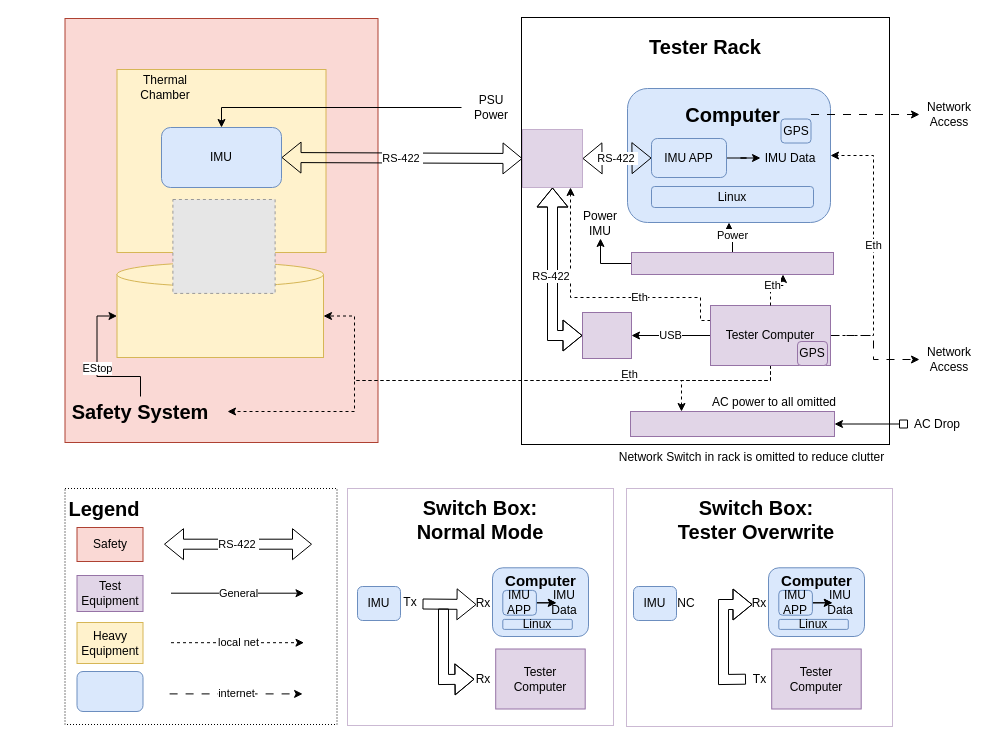
The diagram is 996 pixels wide and 744 high, and some of its shapes have lost their labels. Grey dashed boxes stand in for pictures. Each missing label, with the box of its shape:
Bot Component: (76, 670, 143, 712)
PSU: (630, 252, 834, 274)
Rate Table: (116, 274, 324, 358)
Switch Box: (522, 128, 582, 188)
UPS: (630, 410, 834, 436)
USB to RS-422: (582, 312, 632, 358)
